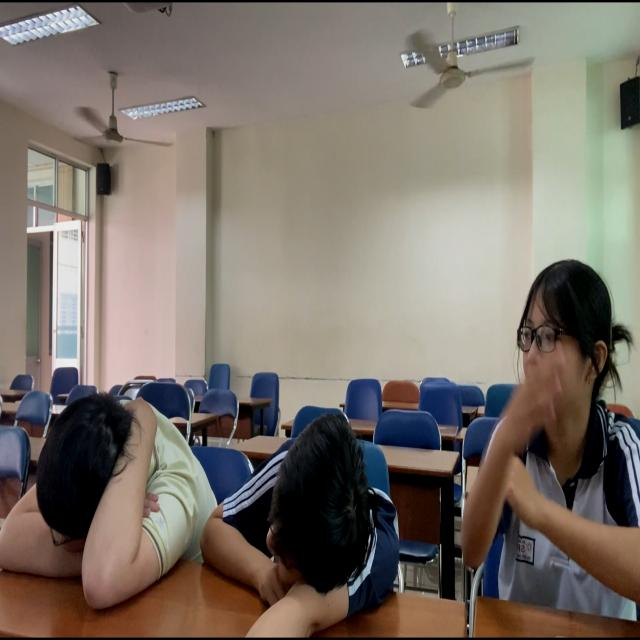raise_hand: (461, 251, 640, 640)
sleep: (1, 364, 217, 611), (206, 396, 418, 640)
